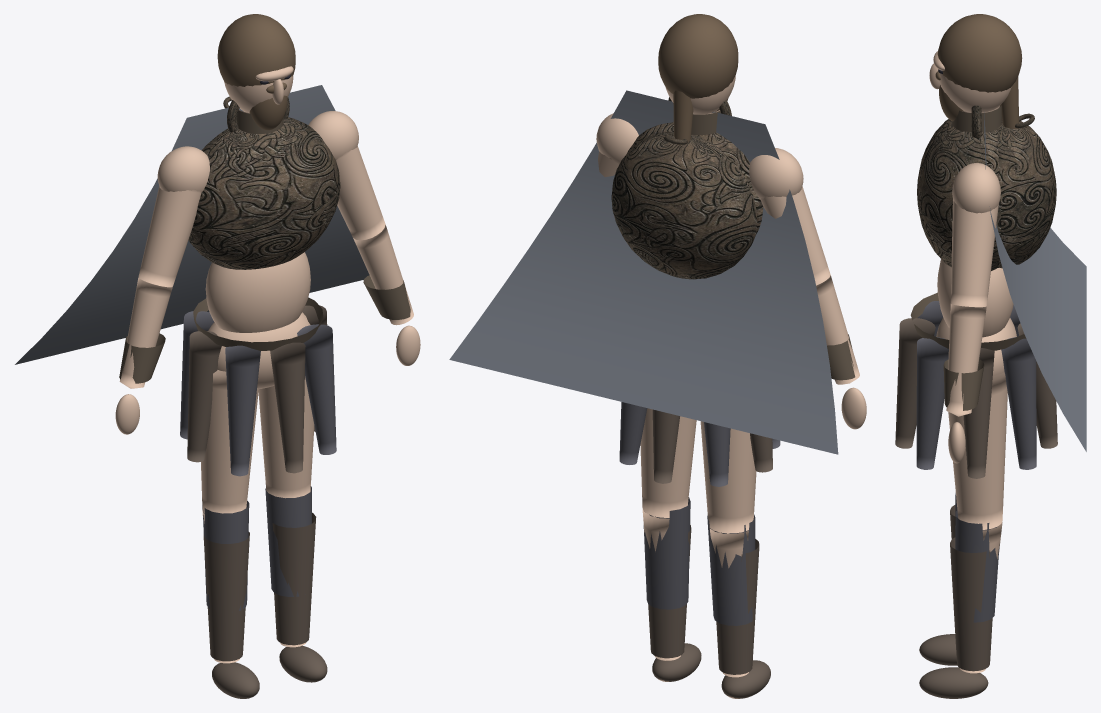
File: AEDAN-STORMCROWN-V1.glb
3 views of the same model, side by side, from view 1: azimuth 30°, elevation 25°; view 2: azimuth 150°, elevation 25°; view 3: azimuth 270°, elevation 25° (orthographic). The views are drawn at different scales.
Parts seen in each view (by area): view 1: breastplate, cloak, abs, boot_-1, hair_cap, thigh_-1, boot_1, upper_-1, thigh_1, kilt_5, kilt_4, kilt_3 (+19 smaller); view 2: cloak, backplate, hair_cap, thigh_-1, trouser_r, thigh_1, trouser_l, boot_-1, shoulder_-1, boot_1, upper_-1, kilt_0 (+14 smaller); view 3: cloak, backplate, breastplate, hair_cap, thigh_1, upper_1, boot_1, kilt_1, kilt_3, fore_1, kilt_4, kilt_2 (+17 smaller).
Boxes of the visible parts, <box> form: breastplate: <box>188,117,340,269</box>; cloak: <box>15,85,369,364</box>; abs: <box>205,252,310,332</box>; boot_-1: <box>203,532,249,661</box>; hair_cap: <box>217,14,295,86</box>; thigh_-1: <box>201,370,258,513</box>; boot_1: <box>272,512,316,645</box>; upper_-1: <box>138,186,200,287</box>; thigh_1: <box>258,376,314,498</box>; kilt_5: <box>225,345,260,476</box>; kilt_4: <box>270,342,305,473</box>; kilt_3: <box>297,324,336,454</box>; cloak: <box>449,90,838,454</box>; backplate: <box>611,132,757,279</box>; hair_cap: <box>658,14,738,98</box>; thigh_-1: <box>700,421,756,533</box>; trouser_r: <box>643,497,690,609</box>; thigh_1: <box>640,408,696,517</box>; trouser_l: <box>707,514,755,625</box>; boot_-1: <box>716,539,759,674</box>; shoulder_-1: <box>749,148,803,199</box>; boot_1: <box>643,524,691,658</box>; upper_-1: <box>760,186,830,285</box>; kilt_0: <box>652,409,679,483</box>; cloak: <box>984,112,1086,451</box>; backplate: <box>997,120,1056,268</box>; breastplate: <box>917,119,1001,270</box>; hair_cap: <box>937,14,1022,92</box>; thigh_1: <box>948,372,1007,529</box>; upper_1: <box>950,199,998,307</box>; boot_1: <box>950,537,992,671</box>; kilt_1: <box>1001,337,1036,469</box>; kilt_3: <box>916,337,948,469</box>; fore_1: <box>946,304,986,416</box>; kilt_4: <box>895,318,935,448</box>; kilt_2: <box>963,348,994,478</box>.
Size of the model in its own units: 1.12 by 1.86 by 0.4869.
Materials: 7 (1 with a texture image).
